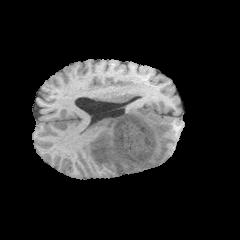glioma: (88, 108, 175, 172)
